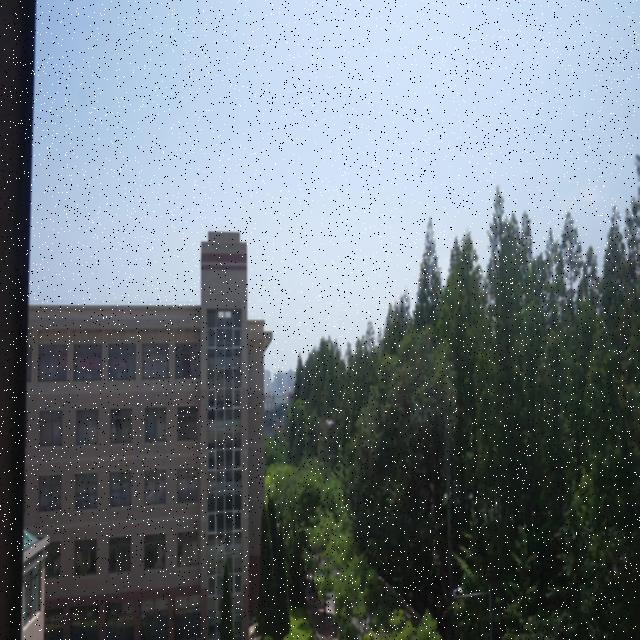UAV: (326, 420, 334, 427)
